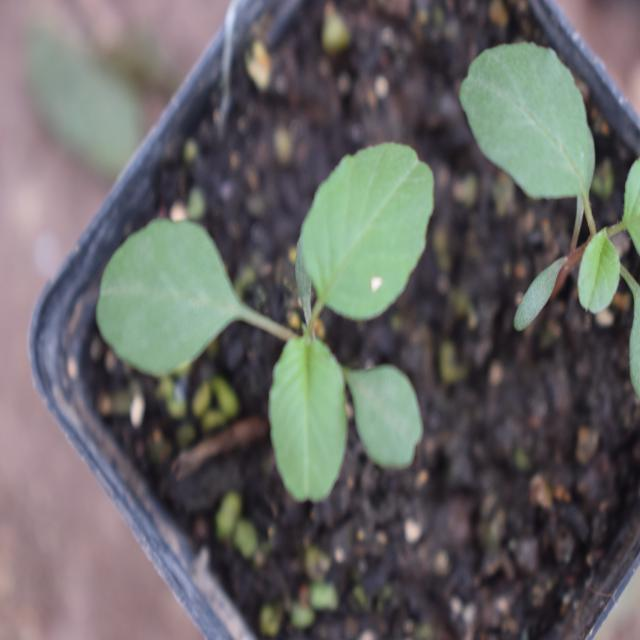pigweed: (105, 138, 431, 498)
